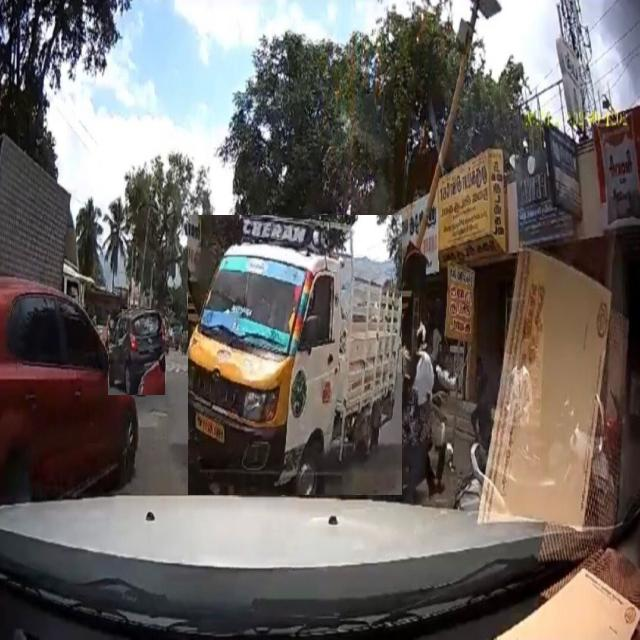car: (0, 278, 139, 502), (108, 309, 165, 395)
truck: (188, 216, 402, 495)
